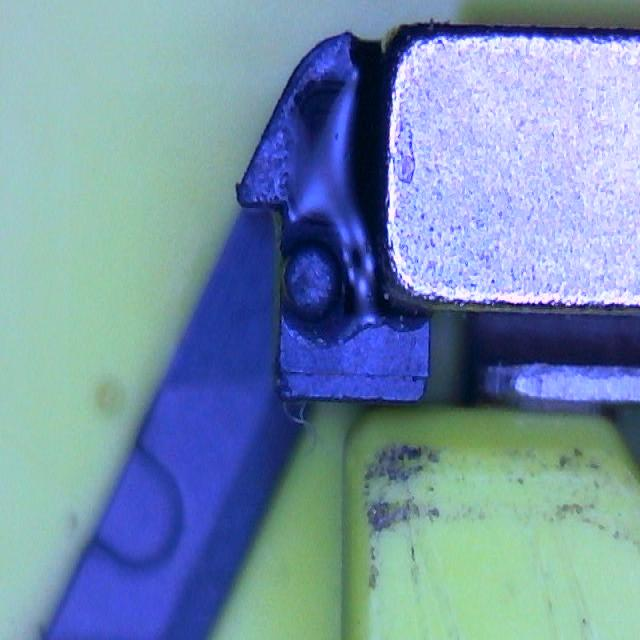over: (281, 80, 374, 244)
